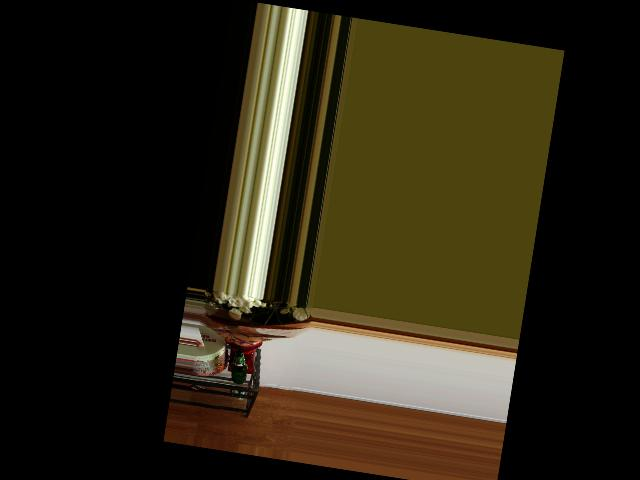beer: (227, 348, 250, 385)
